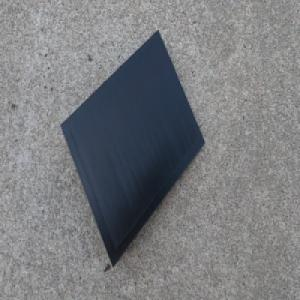PlasticPart: (58, 27, 206, 270)
